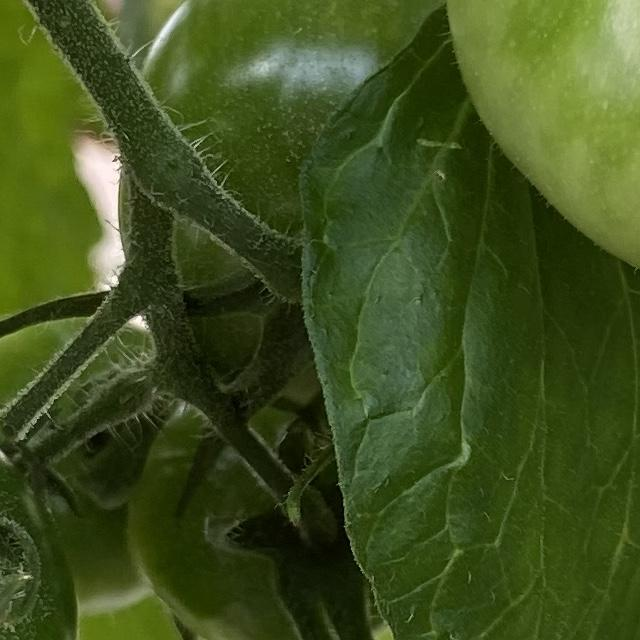tomato: (28, 0, 640, 394)
